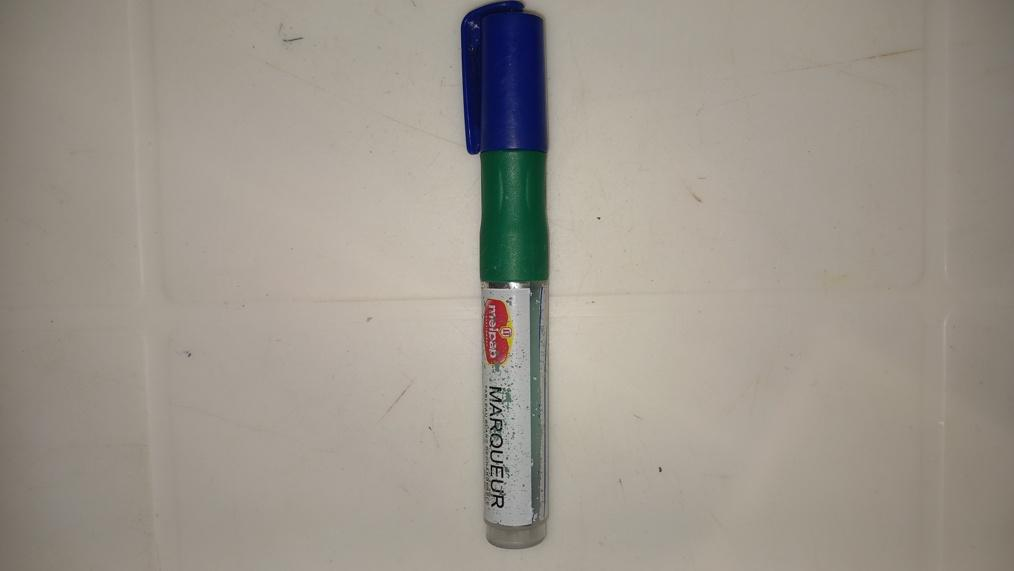Whiteboard marker: (459, 2, 550, 549)
